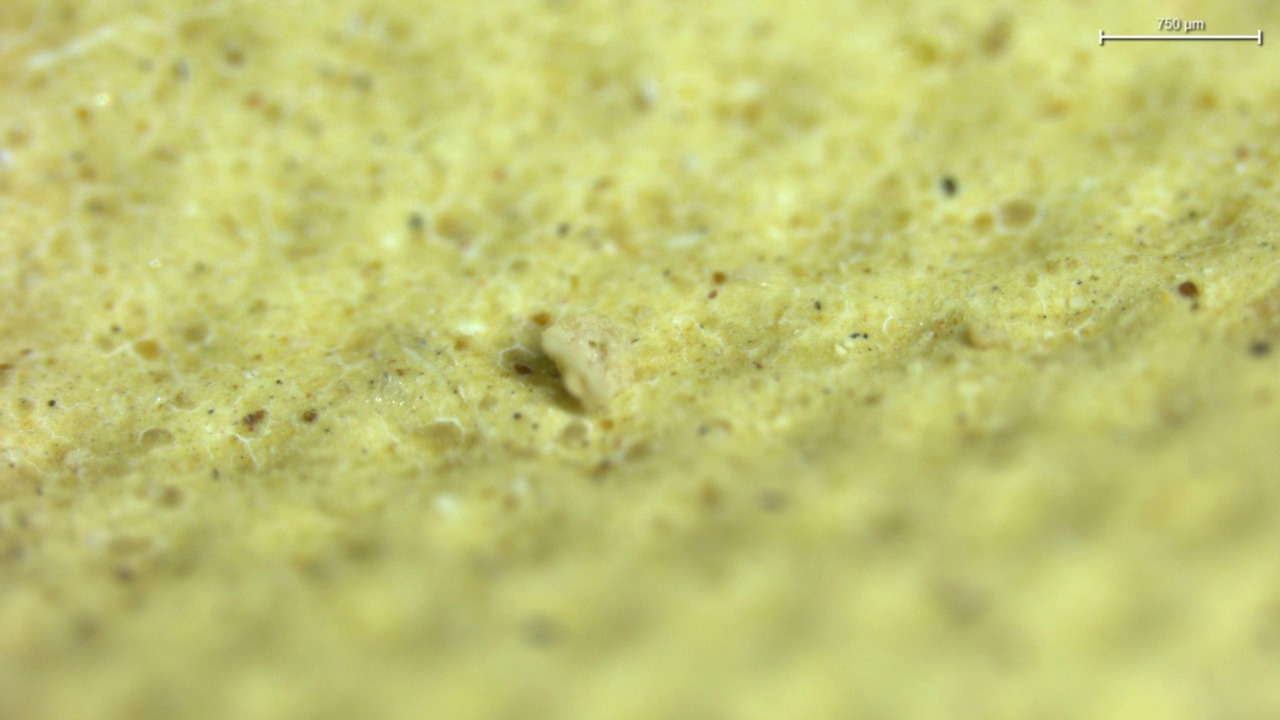microplastic_fragment: (541, 315, 633, 411)
